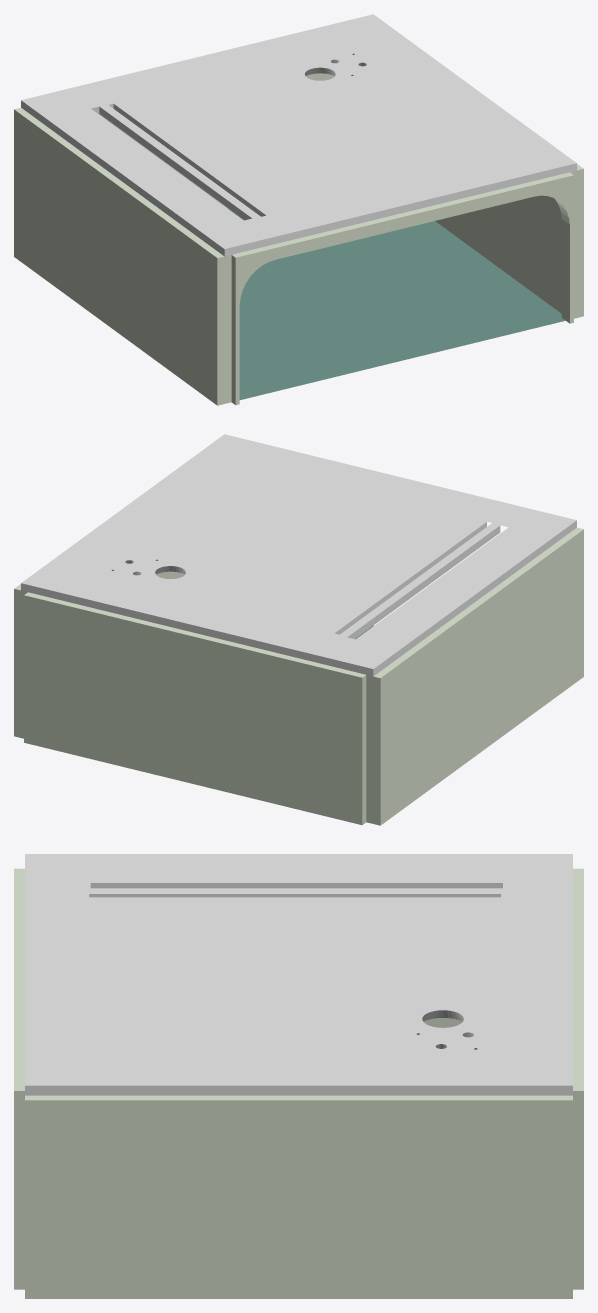
File: testroom.gltf
3 renders of one model, top to bottom at view 1: azimuth 30°, elevation 25°; view 2: azimuth 150°, elevation 25°; view 3: azimuth 270°, elevation 25°, orthographic. The views are drawn at different scales.
Visible parts, largest first — view 1: roof, Plane, wall-left, wall-lright, arch; view 2: roof, wall_back, wall-left, wall-lright; view 3: roof, wall-lright, arch, wall_back.
Part boxes in pixels (left/top/right/bottom): roof: left=21, top=14, right=576, bottom=256; Plane: left=228, top=208, right=565, bottom=399; wall-left: left=14, top=107, right=231, bottom=405; wall-lright: left=435, top=164, right=583, bottom=318; arch: left=231, top=172, right=573, bottom=405; roof: left=21, top=434, right=576, bottom=676; wall_back: left=24, top=592, right=366, bottom=825; wall-left: left=366, top=527, right=583, bottom=825; wall-lright: left=14, top=571, right=184, bottom=738; roof: left=25, top=854, right=572, bottom=1095; wall-lright: left=25, top=1095, right=572, bottom=1298; arch: left=14, top=868, right=24, bottom=1289; wall_back: left=573, top=868, right=583, bottom=1289.
Bounding box in the file's own units: 5.2 × 2.1 × 5.2.
